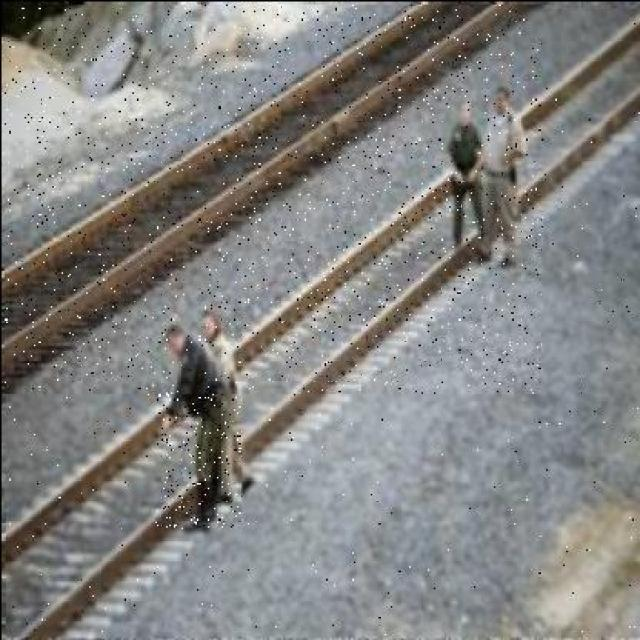rail: (6, 10, 640, 636), (4, 4, 543, 392)
